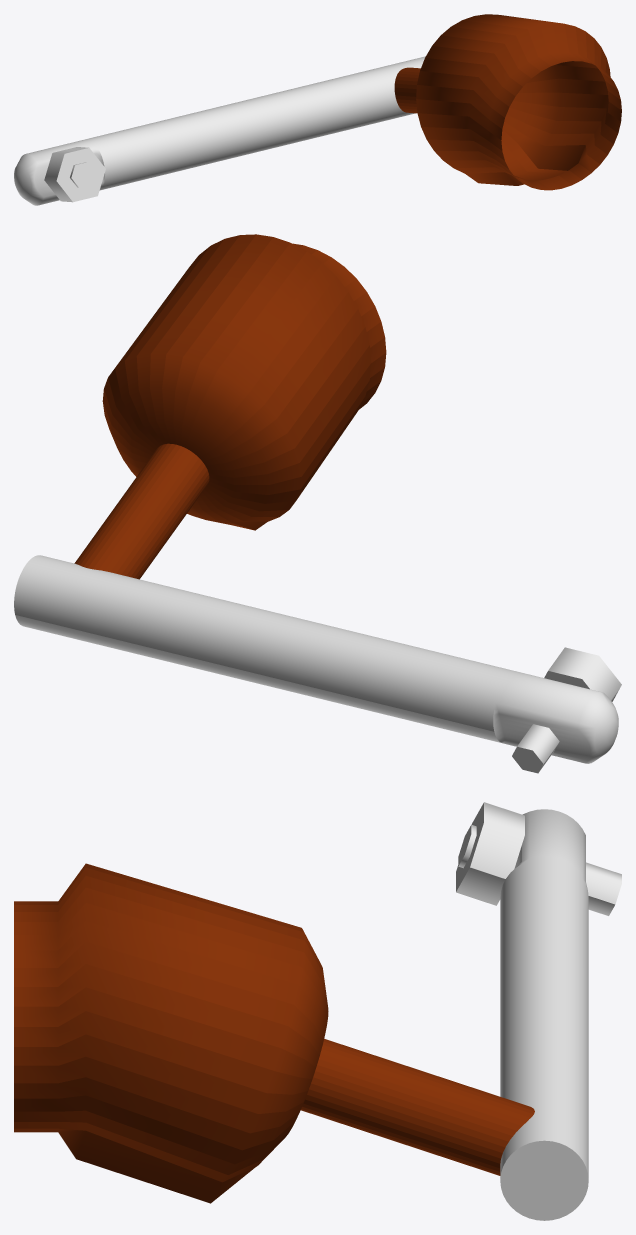
File: LeftFrontWheelAxis.glb
3 renders of one model, top to bottom at view 1: azimuth 30°, elevation 25°; view 2: azimuth 150°, elevation 25°; view 3: azimuth 270°, elevation 25°, orthographic. The views are drawn at different scales.
Visible parts, largest first — view 1: Left Front Wheel Axles corrected.001, Steering Rod Nut Left; view 2: Left Front Wheel Axles corrected.001, Steering Rod Nut Left; view 3: Left Front Wheel Axles corrected.001, Steering Rod Nut Left.
Part boxes in pixels (x1,y1,x2,y2): Left Front Wheel Axles corrected.001: [394, 14, 621, 190]; Steering Rod Nut Left: [14, 56, 425, 205]; Left Front Wheel Axles corrected.001: [74, 234, 386, 579]; Steering Rod Nut Left: [14, 555, 621, 773]; Left Front Wheel Axles corrected.001: [14, 863, 534, 1203]; Steering Rod Nut Left: [456, 802, 621, 1220].
Bounding box in the file's own units: 0.1106 × 0.0439 × 0.0769.
